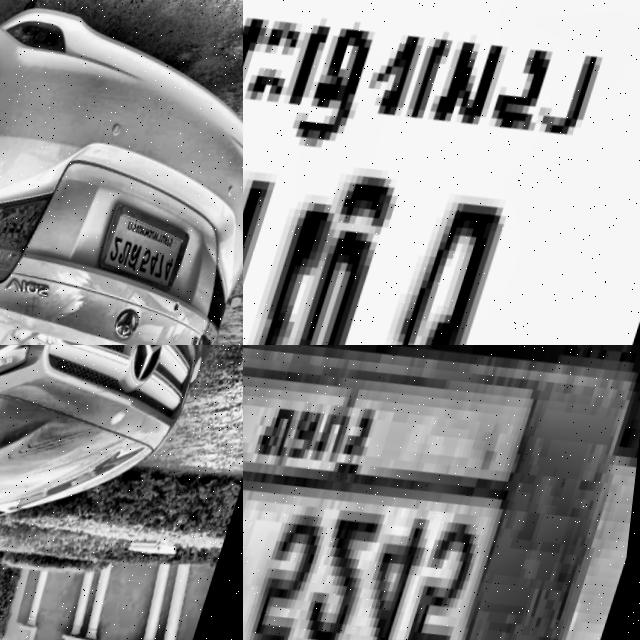license-plate: (243, 0, 640, 345), (243, 345, 640, 640), (98, 205, 209, 312)
